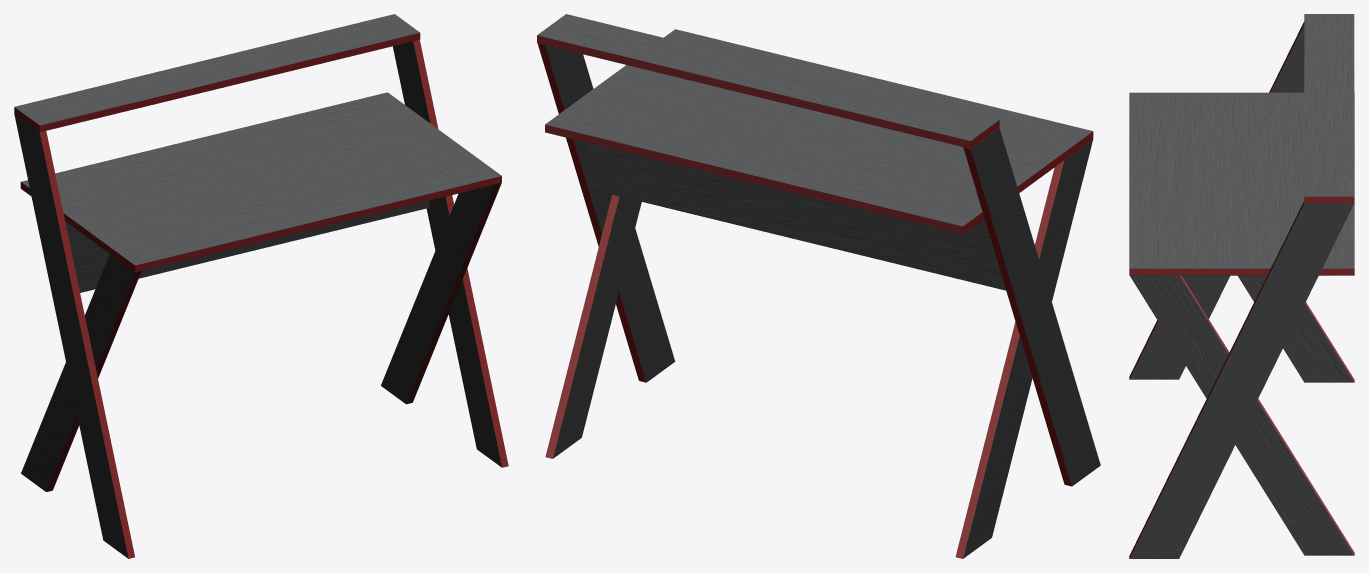
3 views of the same model, side by side, from view 1: azimuth 30°, elevation 25°; view 2: azimuth 150°, elevation 25°; view 3: azimuth 270°, elevation 25° (orthographic). The views are drawn at different scales.
Parts seen in each view (by area): view 1: Stol; view 2: Stol; view 3: Stol.
Part boxes in pixels (x1,y1,x2,y2): Stol: (14, 14, 508, 558); Stol: (537, 14, 1100, 558); Stol: (1129, 14, 1354, 558).
Size of the model in its own units: 1.04 by 0.9596 by 0.54.
1 material, 1 textured.
